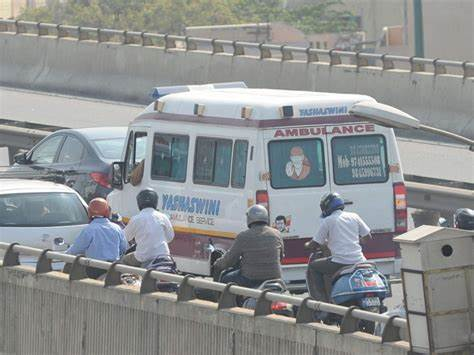ambulance: (101, 74, 428, 271)
